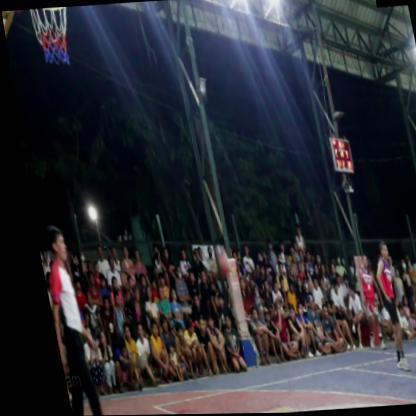rim: (19, 7, 81, 75)
